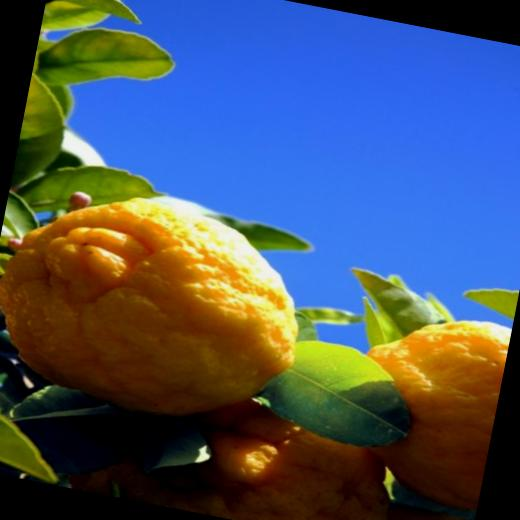Grape: (0, 164, 330, 435), (346, 302, 512, 512), (188, 387, 393, 520), (135, 454, 244, 520)
